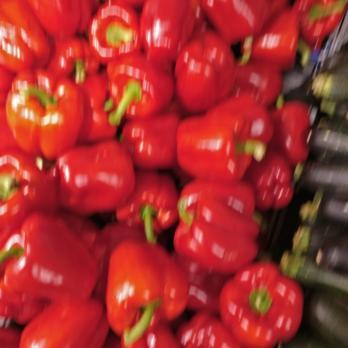Capsicum: (0, 2, 293, 348)
